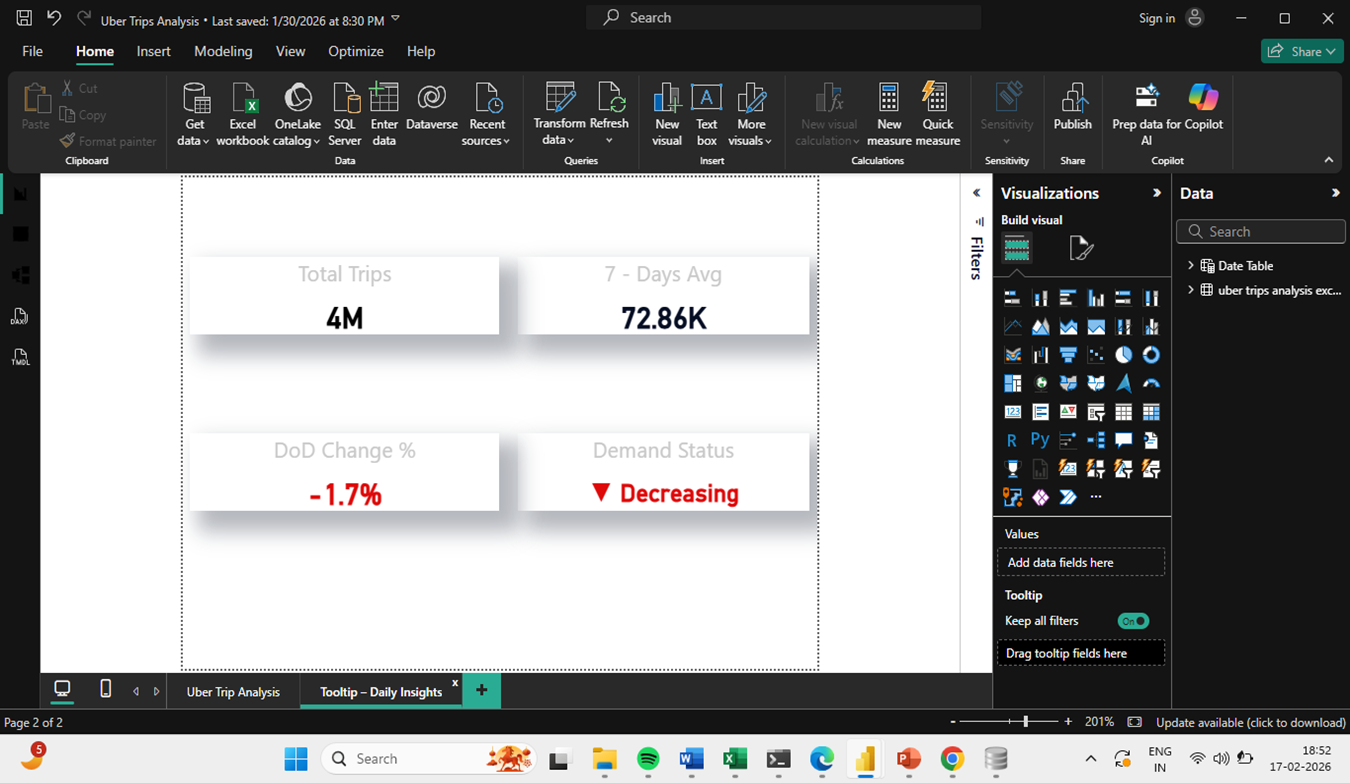

What the dashboard file says about the page in this screenshot:
{"tool":"powerbi","page":{"name":"Tooltip – Daily Insights","canvas":[320,240],"ordinal":1},"visuals":[{"type":"card","title":"7 - Days Avg","fields":{"Values":["Date Table.7 Day Rolling Avg"]},"box":[168.8,38.8,146.9,38.3],"z":0},{"type":"card","title":"Total Trips","fields":{"Values":["uber trips analysis excel dashboard.Total Trips"]},"box":[3.5,38.8,156.3,38.3],"z":1000},{"type":"card","title":"DoD Change %","fields":{"Values":["Date Table.Demand Trend DoD %"]},"box":[3.5,125,156.3,38.3],"z":2000},{"type":"card","title":"Demand Status","fields":{"Values":["Date Table.Demand Status"]},"box":[168.8,125,146.9,38.3],"z":3000}]}

Visuals, with their boxes on the page's 320x240 design canvas (x1, y1, x2, y2). These are canvas units, not pixel positions in the 1350x783 screenshot, which may show the page scaled, cropped or inside an application window:
"7 - Days Avg" card: [x1=169, y1=39, x2=316, y2=77]
"Total Trips" card: [x1=4, y1=39, x2=160, y2=77]
"DoD Change %" card: [x1=4, y1=125, x2=160, y2=163]
"Demand Status" card: [x1=169, y1=125, x2=316, y2=163]
